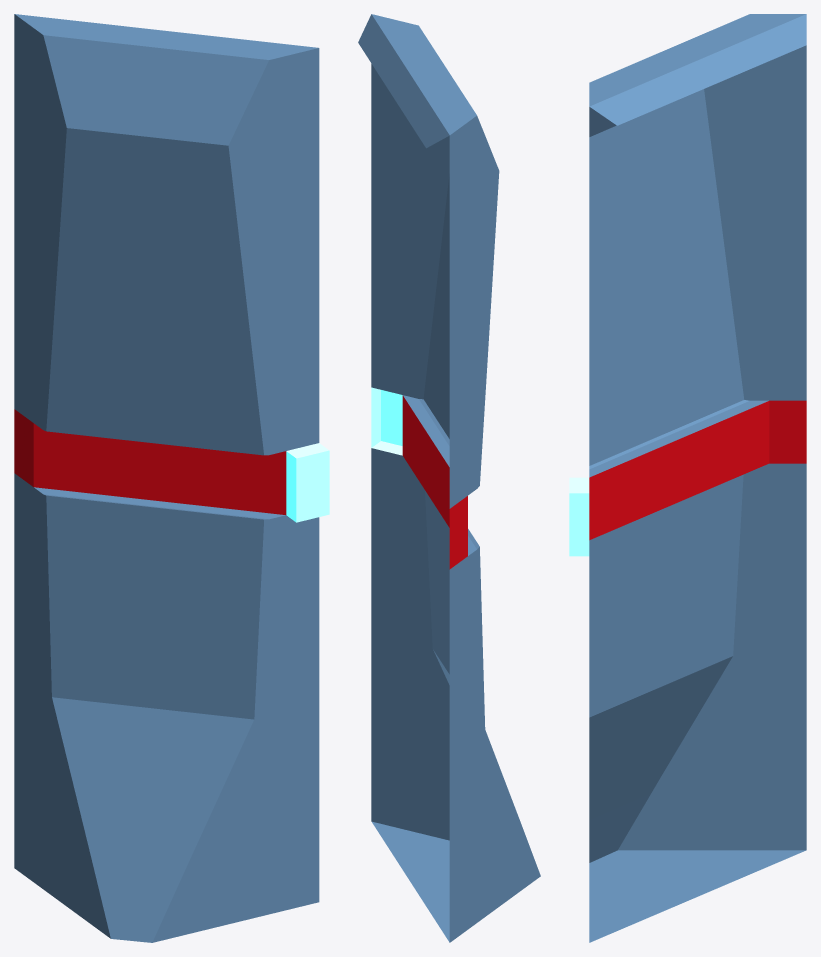
File: MainColOutside.fbx
The picture shows the model from 3 angles, left to right: view 1: azimuth 30°, elevation 25°; view 2: azimuth 150°, elevation 25°; view 3: azimuth 270°, elevation 25°; orthographic projection. The views are drawn at different scales.
Parts seen in each view (by area): view 1: Wall.022; view 2: Wall.022; view 3: Wall.022.
Boxes of the visible parts, box(x1,y1,x2,y2) form: Wall.022: box(14, 14, 329, 942); Wall.022: box(358, 14, 540, 942); Wall.022: box(569, 14, 806, 942).
Size of the model in its own units: 59.37 by 250 by 64.31.
